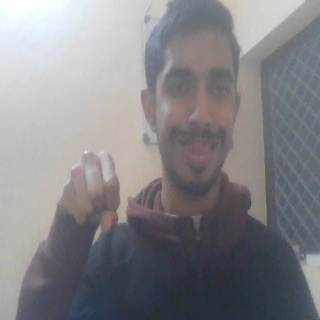Face: (140, 4, 242, 189)
Yes: (58, 147, 122, 230)
